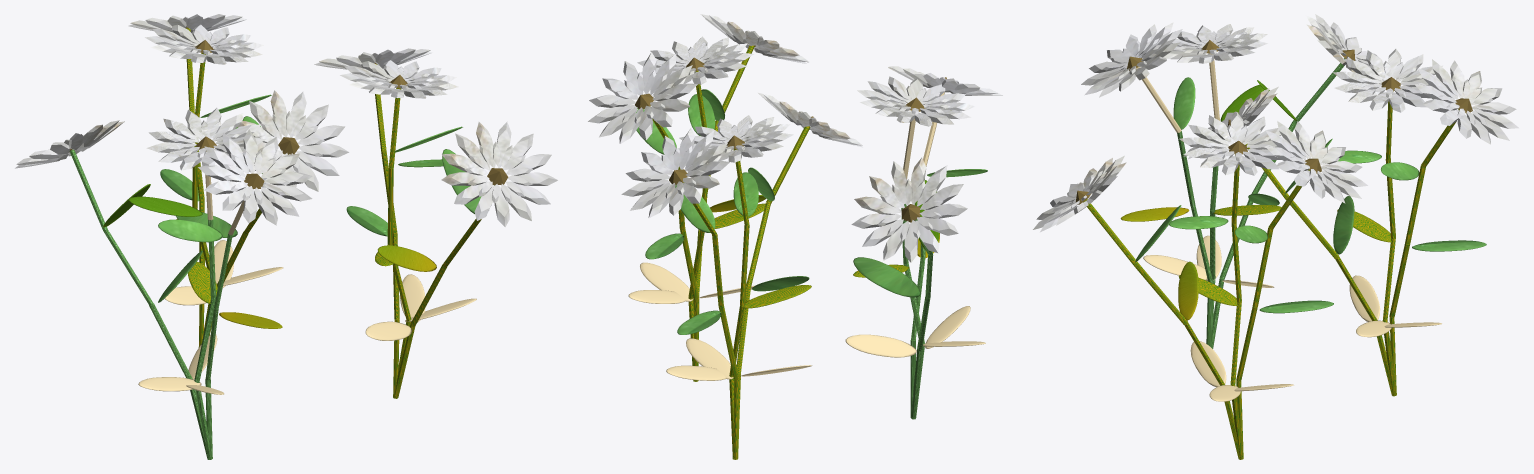
The model's file is lotus.FBX.
3 views of the same model, side by side, from view 1: azimuth 30°, elevation 25°; view 2: azimuth 150°, elevation 25°; view 3: azimuth 270°, elevation 25° (orthographic).
Visible parts, largest first — view 1: Layer:02, Layer:01, Layer:0, Group03, Group02, Object26, Object37, Object35, Object36, Object29, Object30; view 2: Layer:02, Group02, Layer:01, Layer:0, Group03, Object26, Object34, Object32, Object31, Object27, Object28; view 3: Group03, Layer:01, Group02, Layer:0, Layer:02, Object26, Object37, Object27, Object31, Object30, Object29.
Part boxes in pixels (left/top/right/bottom): Layer:02: left=15, top=108, right=312, bottom=225; Layer:01: left=314, top=48, right=557, bottom=226; Layer:0: left=128, top=14, right=349, bottom=191; Group03: left=346, top=62, right=508, bottom=398; Group02: left=160, top=27, right=299, bottom=347; Object26: left=69, top=149, right=232, bottom=459; Object37: left=158, top=219, right=222, bottom=242; Object35: left=128, top=196, right=202, bottom=216; Object36: left=138, top=377, right=201, bottom=391; Object29: left=188, top=262, right=217, bottom=303; Object30: left=219, top=312, right=282, bottom=328; Layer:02: left=851, top=66, right=1003, bottom=262; Group02: left=666, top=116, right=813, bottom=459; Layer:01: left=588, top=14, right=809, bottom=143; Layer:0: left=621, top=93, right=862, bottom=218; Group03: left=628, top=43, right=765, bottom=381; Object26: left=901, top=179, right=933, bottom=419; Object34: left=853, top=257, right=920, bottom=297; Object32: left=845, top=334, right=916, bottom=357; Object31: left=925, top=306, right=970, bottom=348; Object27: left=903, top=92, right=944, bottom=179; Object28: left=901, top=77, right=946, bottom=222; Group03: left=1076, top=140, right=1333, bottom=459; Layer:01: left=1033, top=112, right=1367, bottom=232; Group02: left=1227, top=77, right=1486, bottom=396; Layer:0: left=1183, top=48, right=1518, bottom=159; Layer:02: left=1081, top=14, right=1394, bottom=97; Object26: left=1177, top=58, right=1345, bottom=348; Object37: left=1173, top=77, right=1195, bottom=129; Object27: left=1136, top=53, right=1219, bottom=132; Object31: left=1143, top=255, right=1206, bottom=280; Object30: left=1120, top=207, right=1189, bottom=221; Object29: left=1213, top=205, right=1281, bottom=215.
Size of the model in its own units: 797 by 660 by 858.
28 materials, 26 textured.
